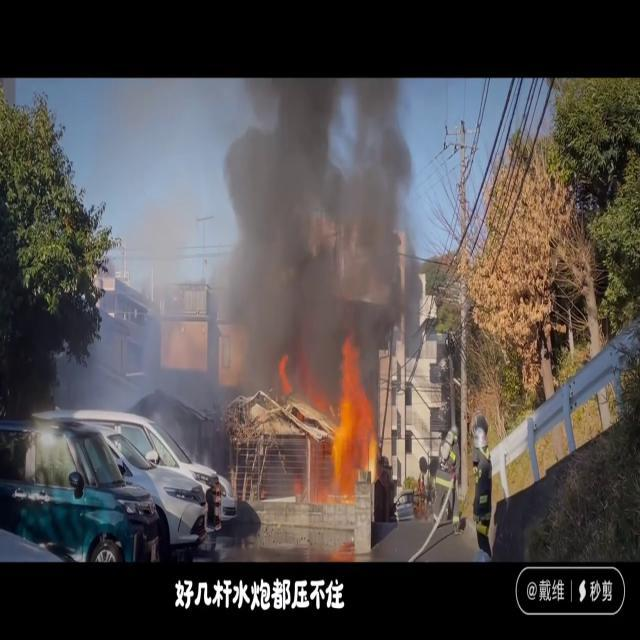Fire: (329, 332, 377, 493), (366, 428, 378, 481)
Smoke: (202, 78, 426, 400)
